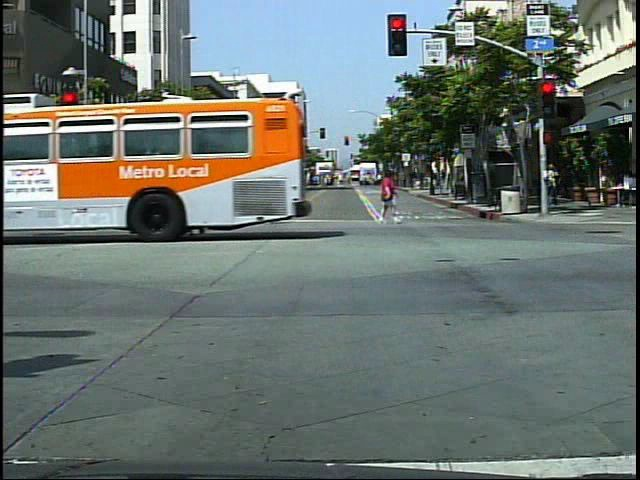person: (148, 169, 178, 235), (256, 166, 287, 229), (377, 167, 400, 227), (546, 161, 564, 212)
